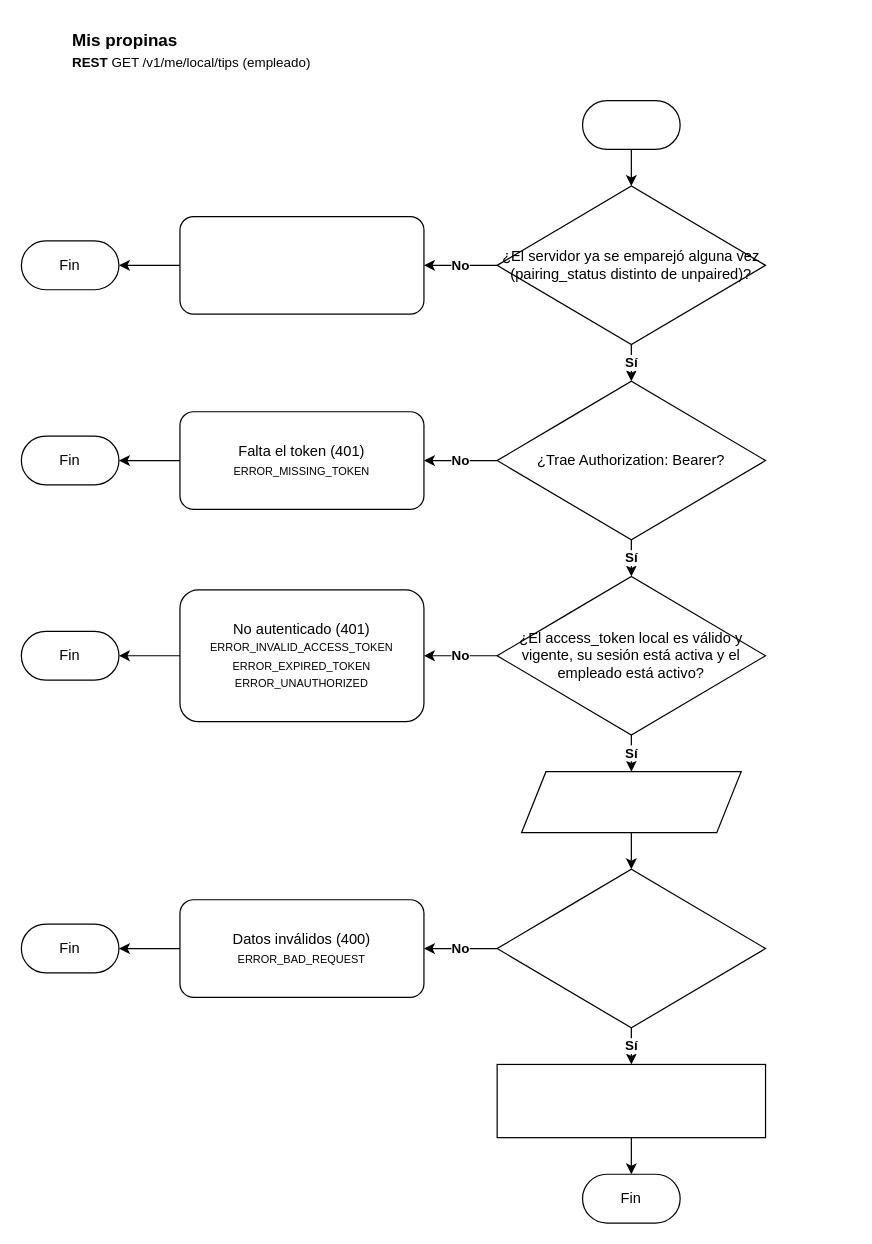
The diagram is 872 pixels wide and 1244 high, and some of its shapes have lost their labels. Each missing label, with the centre of its shape:
"Inicio" belongs at point (630, 124).
"Recibir datos" belongs at point (630, 801).
"Responder 200 con el mensaje MY_TIPS_RETRIEVED" belongs at point (631, 1100).
"Servidor sin emparejar (409) ERROR_SERVER_NOT_PAIRED" belongs at point (301, 264).
"¿Los datos son válidos?" belongs at point (631, 948).
